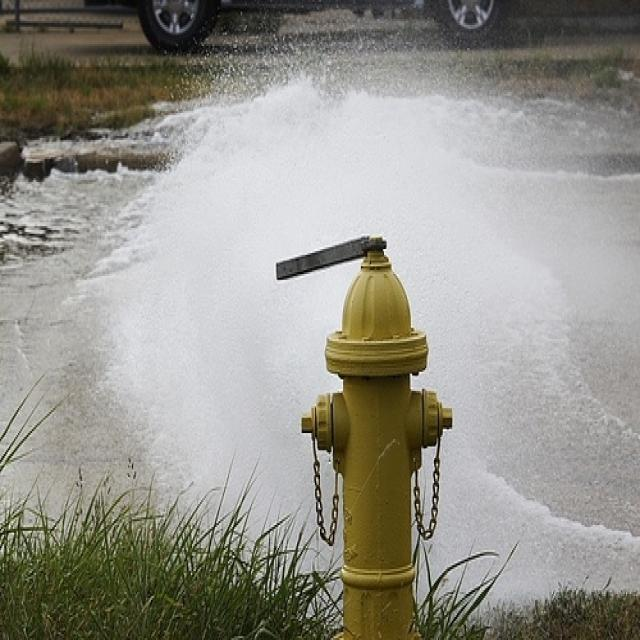fire_hydrant: (271, 199, 496, 640)
